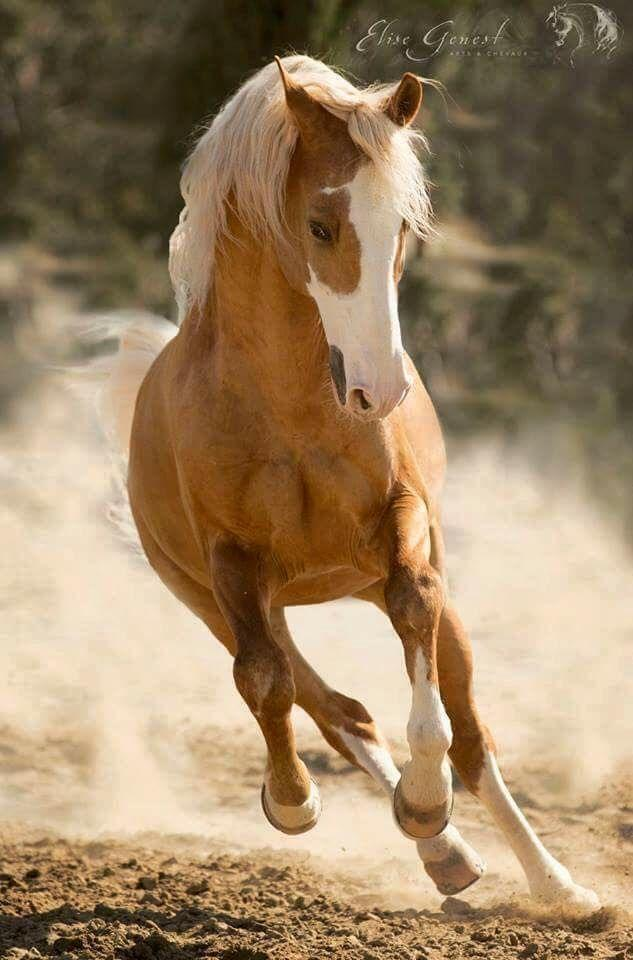horse: (109, 37, 610, 930)
